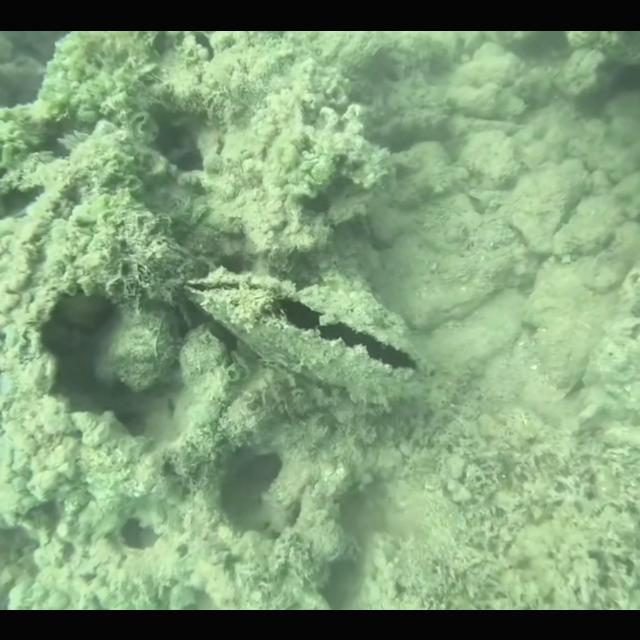Oyster-Open: (182, 262, 428, 408)
